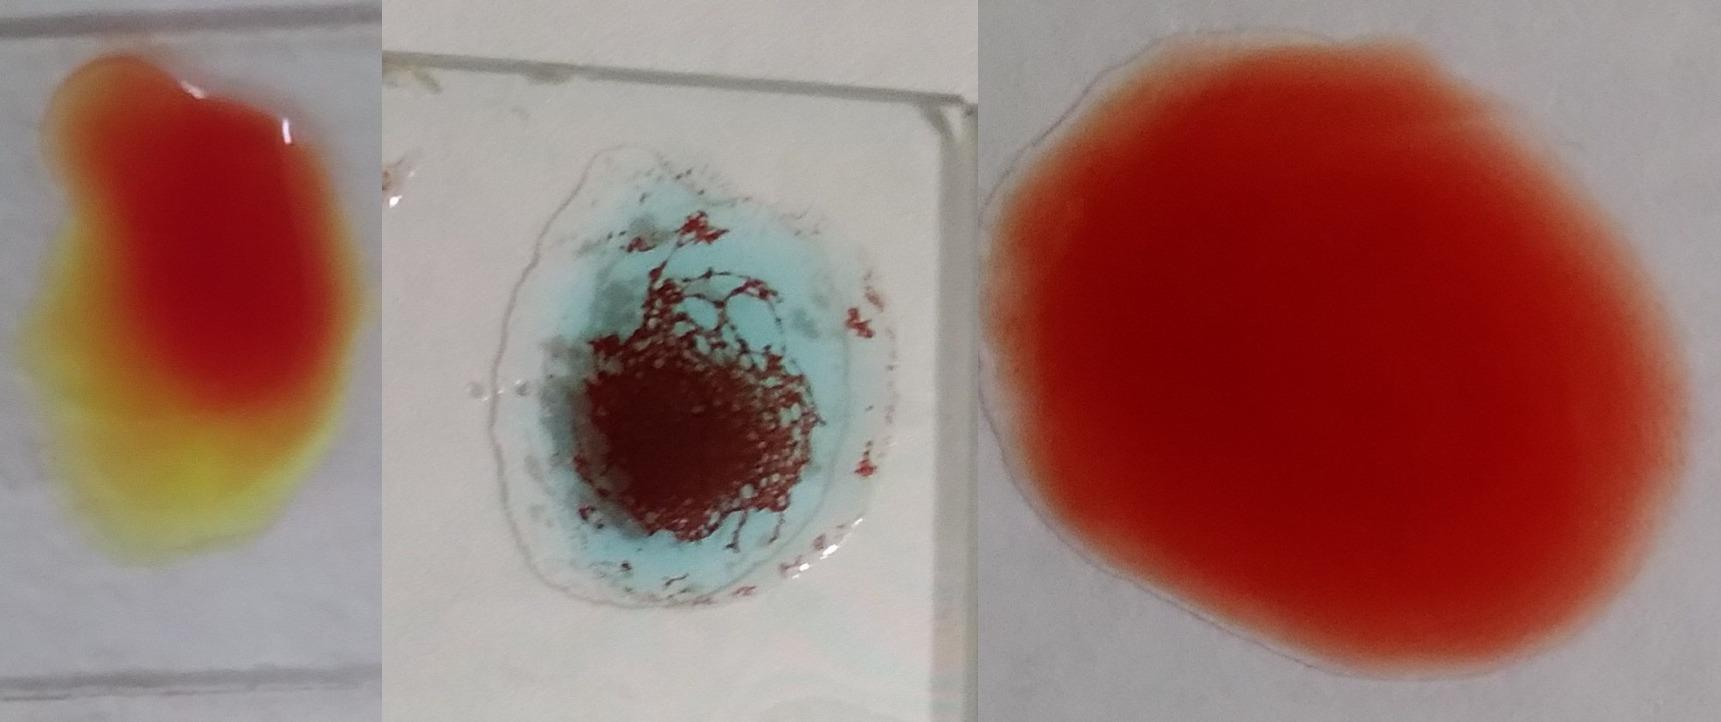A: (498, 154, 866, 616)
